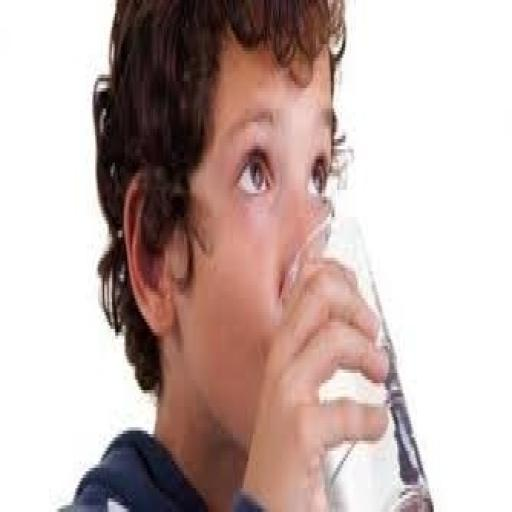drinking: (282, 210, 434, 509)
